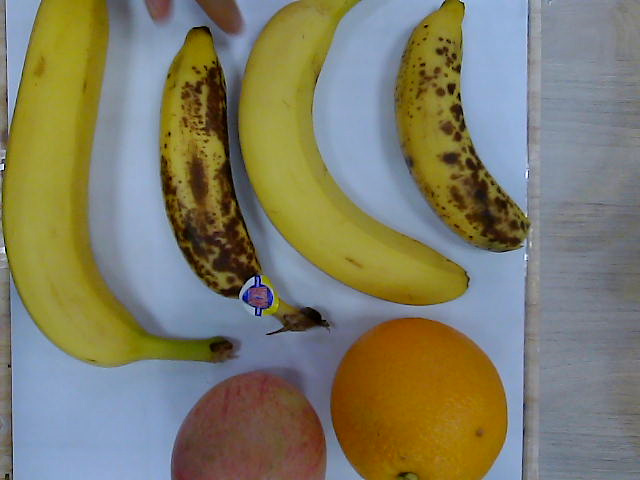fresh_apple: (170, 369, 327, 480)
fresh_banana: (239, 1, 471, 306), (3, 1, 155, 368)
fresh_orange: (332, 317, 511, 480)
rotten_banana: (159, 27, 326, 334), (395, 1, 536, 254)
